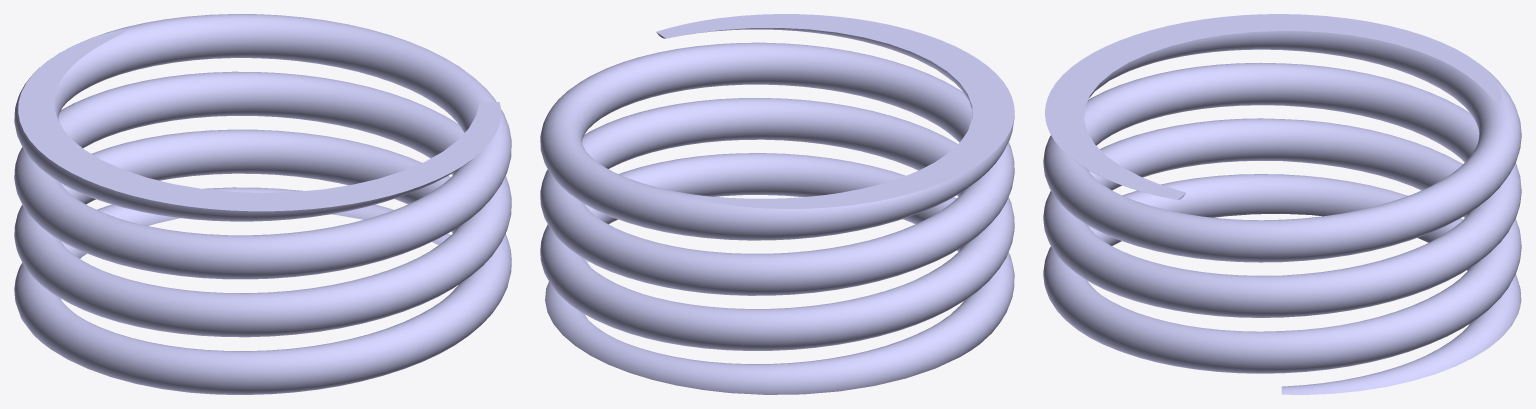
File: 一系悬挂.fbx
3 renders of one model, left to right at view 1: azimuth 30°, elevation 25°; view 2: azimuth 150°, elevation 25°; view 3: azimuth 270°, elevation 25°, orthographic. The views are drawn at different scales.
Parts seen in each view (by area): view 1: Body.2; view 2: Body.2; view 3: Body.2.
Part boxes in pixels (x1,y1,x2,y2): Body.2: (14, 14, 511, 394); Body.2: (540, 14, 1014, 394); Body.2: (1043, 14, 1521, 394).
Size of the model in its own units: 19.96 by 8.46 by 19.96.
